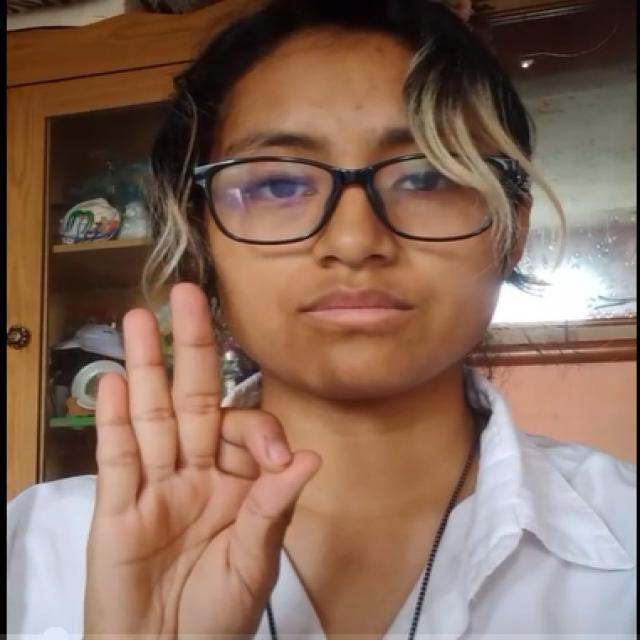F: (71, 269, 331, 640)
